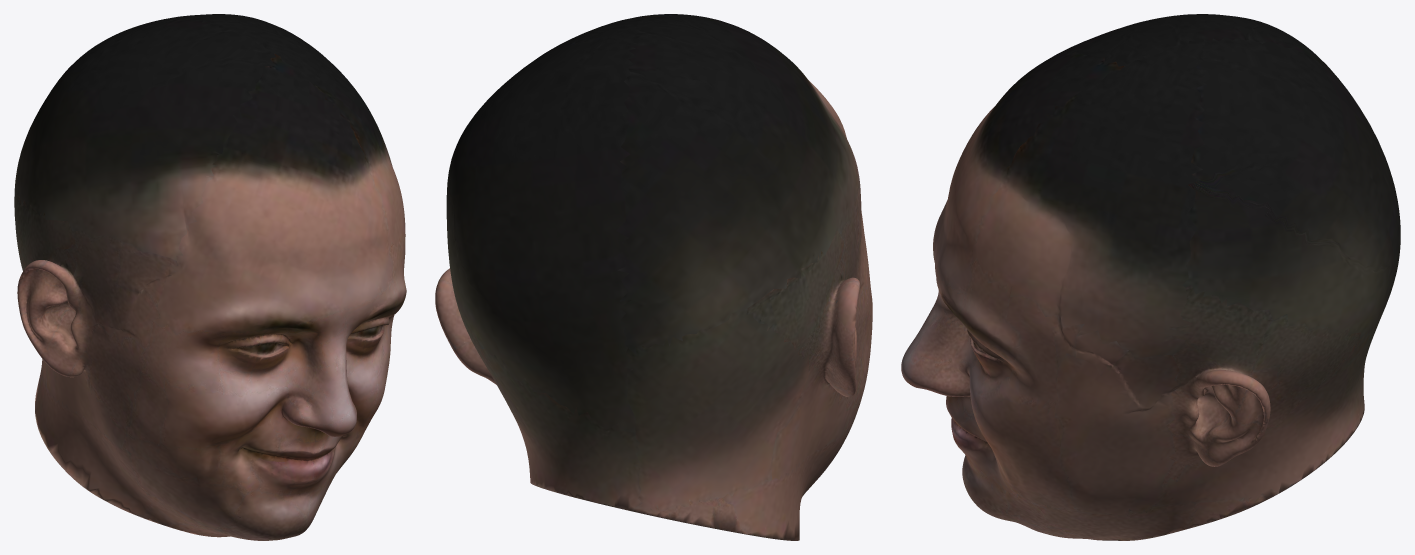
The model's file is head_sherif.glb.
3 renders of one model, left to right at view 1: azimuth 30°, elevation 25°; view 2: azimuth 150°, elevation 25°; view 3: azimuth 270°, elevation 25°, orthographic. The views are drawn at different scales.
Visible parts, largest first — view 1: Sherif; view 2: Sherif; view 3: Sherif.
Boxes of the visible parts, bbox=[...] form: Sherif: bbox=[14, 14, 406, 540]; Sherif: bbox=[435, 14, 872, 540]; Sherif: bbox=[901, 14, 1400, 540].
Bounding box in the file's own units: 0.1895 × 0.2375 × 0.2118.
Materials: 1 (1 with a texture image).
